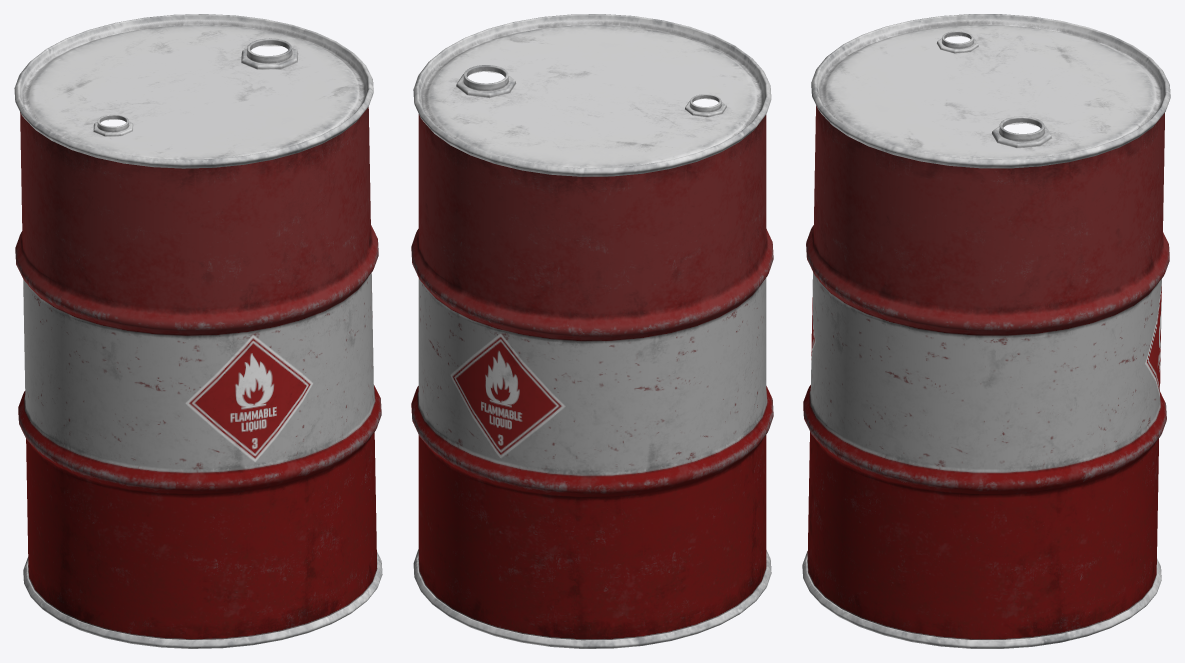
The model's file is tonel.glb.
The picture shows the model from 3 angles, left to right: view 1: azimuth 30°, elevation 25°; view 2: azimuth 150°, elevation 25°; view 3: azimuth 270°, elevation 25°; orthographic projection.
Parts seen in each view (by area): view 1: Barrel_low.001; view 2: Barrel_low.001; view 3: Barrel_low.001.
Part boxes in pixels (x1=…): Barrel_low.001: x1=14, y1=14, x2=382, y2=648; Barrel_low.001: x1=411, y1=14, x2=773, y2=648; Barrel_low.001: x1=802, y1=14, x2=1170, y2=648.
Size of the model in its own units: 48.47 by 72.66 by 48.88.
Materials: 1 (1 with a texture image).
